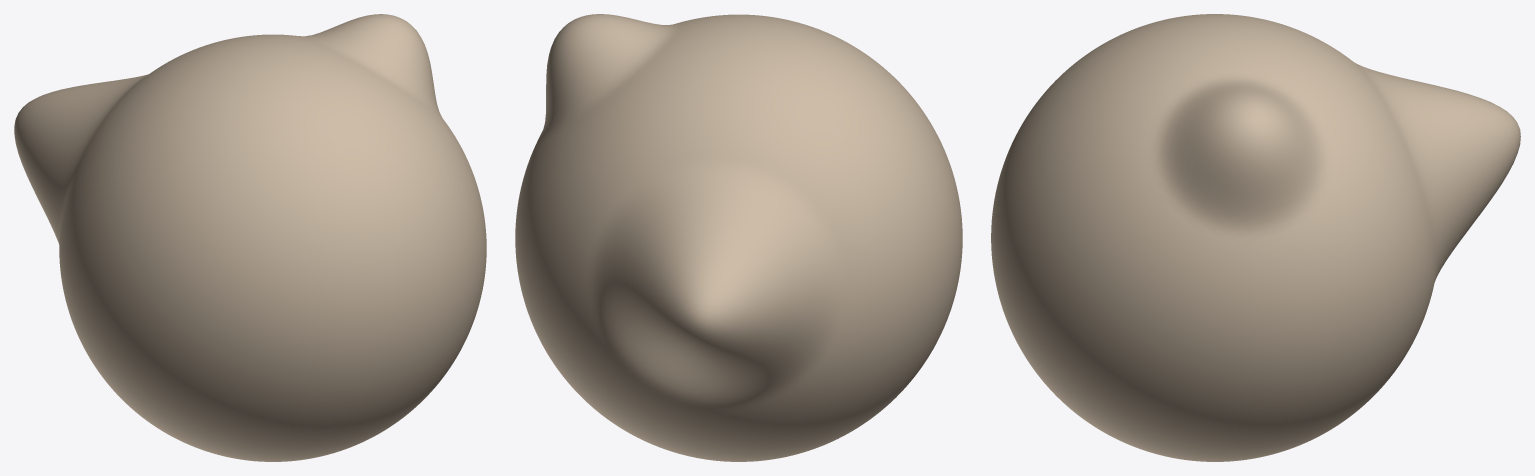
File: asymmetric-sculpture.glb
The picture shows the model from 3 angles, left to right: view 1: azimuth 30°, elevation 25°; view 2: azimuth 150°, elevation 25°; view 3: azimuth 270°, elevation 25°; orthographic projection. The views are drawn at different scales.
Parts seen in each view (by area): view 1: Asymmetric Sculpture; view 2: Asymmetric Sculpture; view 3: Asymmetric Sculpture.
Part boxes in pixels (x1,y1,x2,y2): Asymmetric Sculpture: (14,14,486,461); Asymmetric Sculpture: (515,14,962,461); Asymmetric Sculpture: (991,14,1520,461).
Size of the model in its own units: 1.5 by 1.5 by 1.77.
